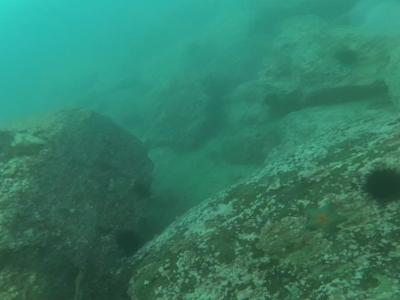urchin: (358, 161, 398, 207), (333, 47, 358, 65)
